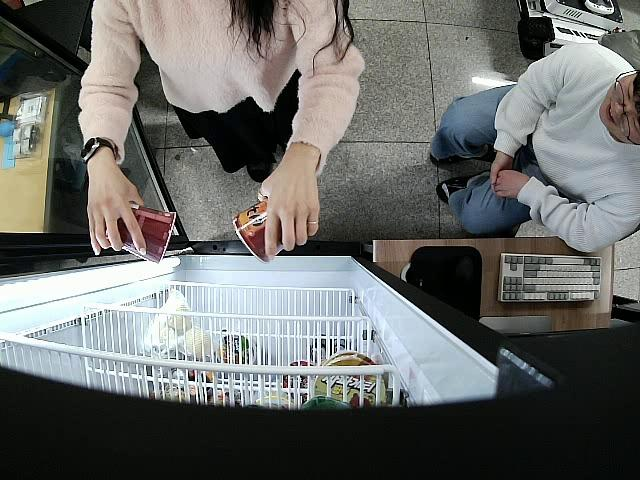00_hand: (259, 153, 320, 259), (86, 163, 146, 256)
06_nuguri_S: (102, 203, 176, 266), (231, 195, 285, 264)
